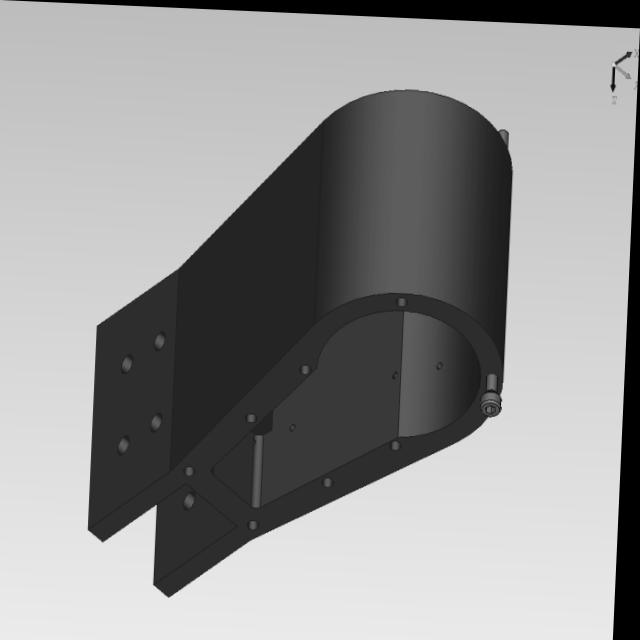screw: (479, 369, 510, 417)
